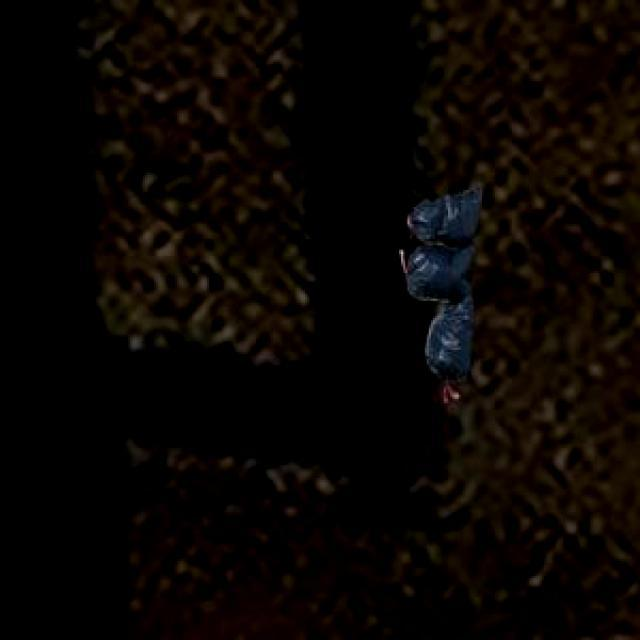Trashbag: (406, 176, 486, 253), (423, 294, 479, 385), (403, 240, 480, 306)
